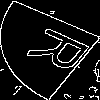R: (25, 24, 100, 79)
